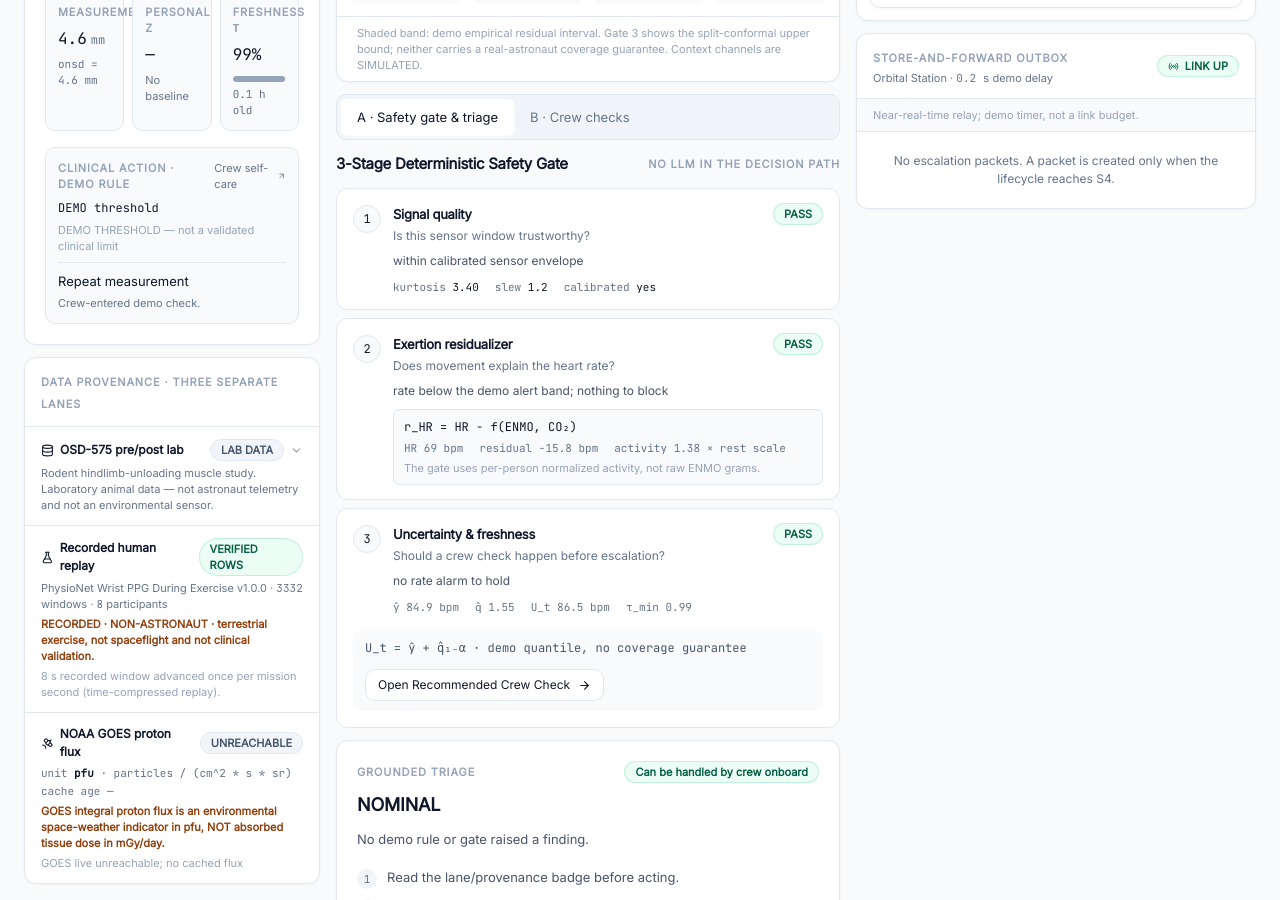
Scenario: provenance lanes stay separate and honest › opens the OSD-575 drawer and shows verified rows with their manifest hash
(page scrolled)
Step 1. Click the button "OSD-575 pre/post lab LAB DATA" → x=172, y=450, box [41,439,303,461]
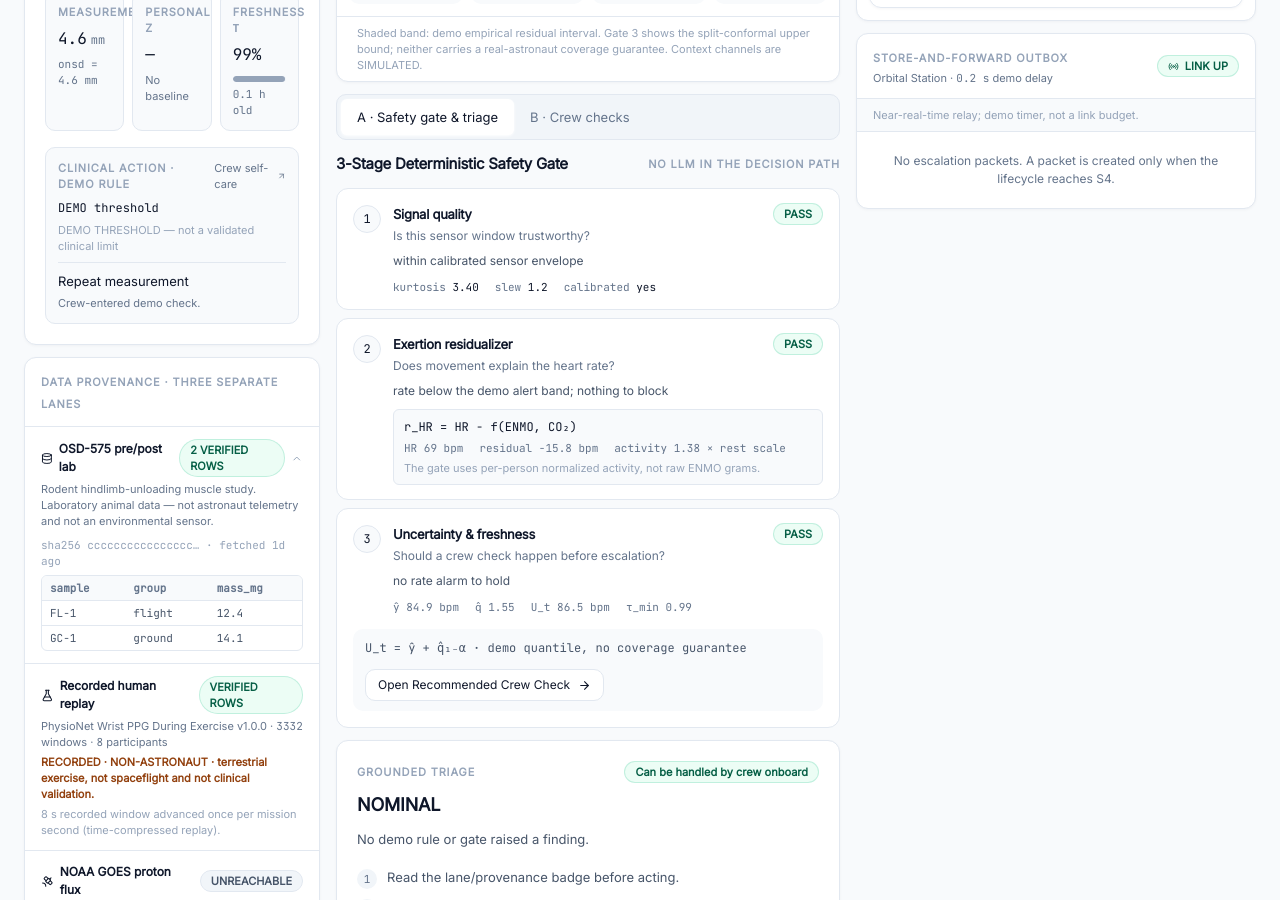
Expected: the text "2 VERIFIED ROWS" is shown, [179,439,285,477]
Expected: the text "FL-1" is shown, [42,600,125,626]
Expected: the text "sha256 cccccccccccccccc… · fetched 1d ago" is shown, [41,537,303,569]
